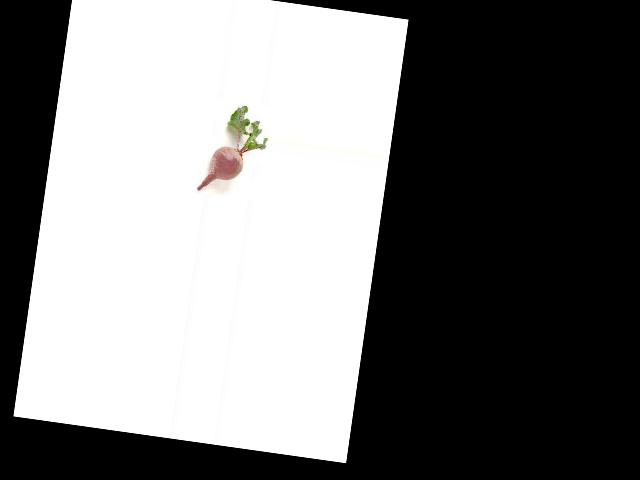beet: (196, 100, 271, 198)
